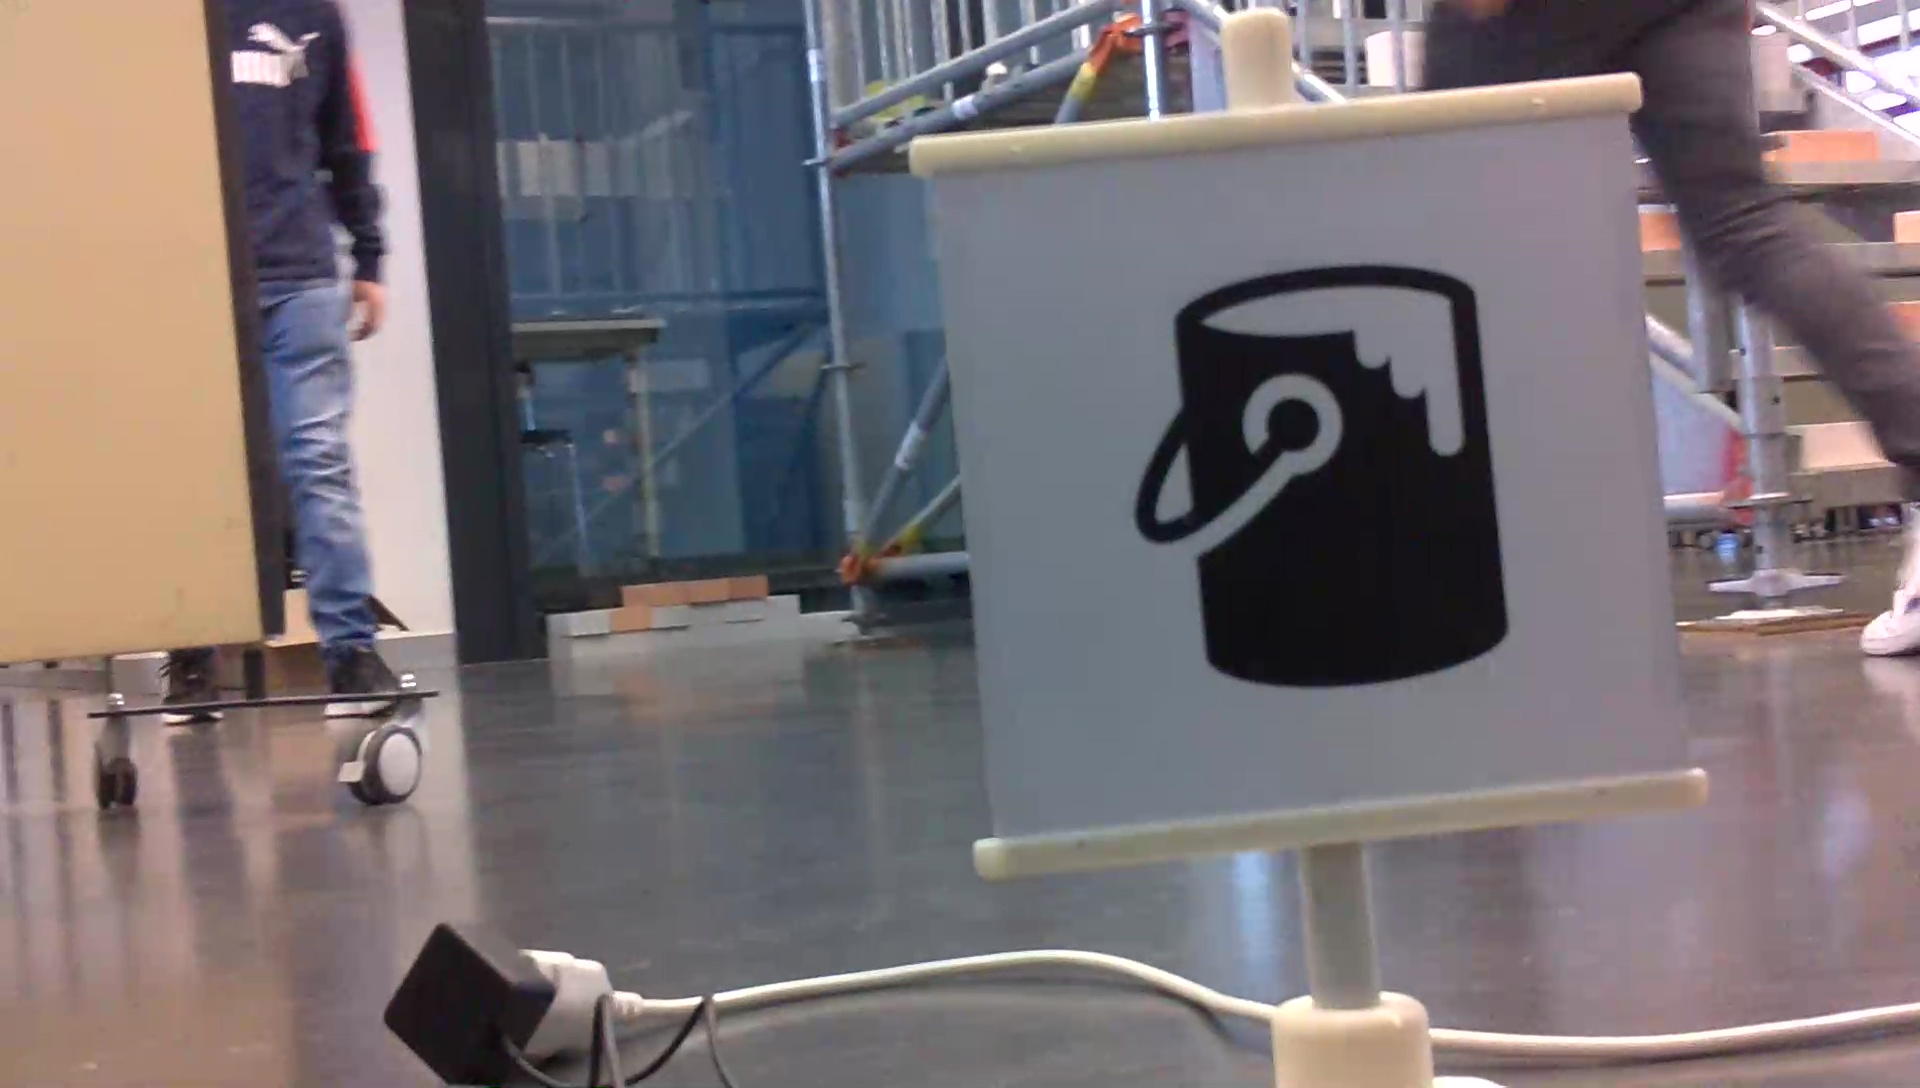brick: (1772, 129, 1875, 156)
bucket: (1120, 255, 1520, 702)
